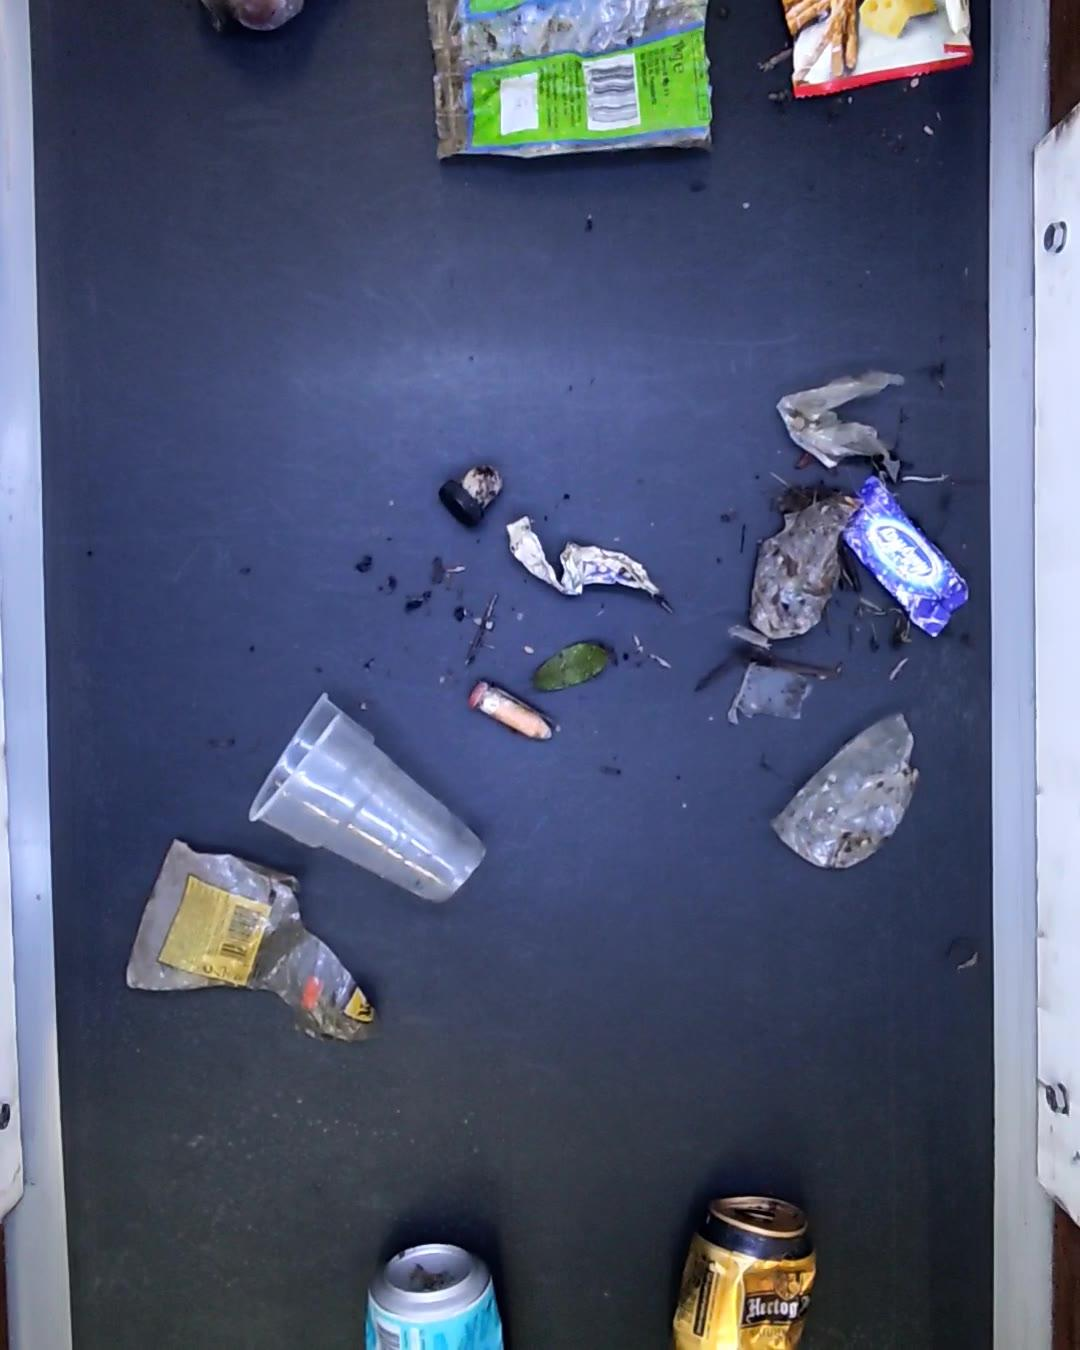Drankblikjes: (670, 1196, 817, 1350), (363, 1239, 503, 1350)
Plastic folies of stukken daarvan 2.5- 50 cm: (122, 834, 378, 1048), (776, 712, 917, 874), (750, 488, 858, 640), (500, 519, 673, 611), (778, 367, 905, 475), (719, 660, 816, 730)
Snoep snack en chips verpakkingen: (775, 0, 980, 104), (850, 487, 968, 630)
Voedselverpakkingen: (428, 0, 714, 165)
